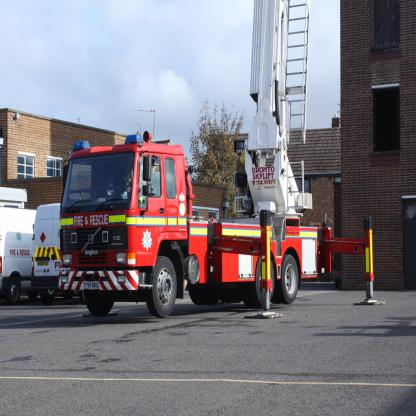Truck: (27, 129, 342, 315)
